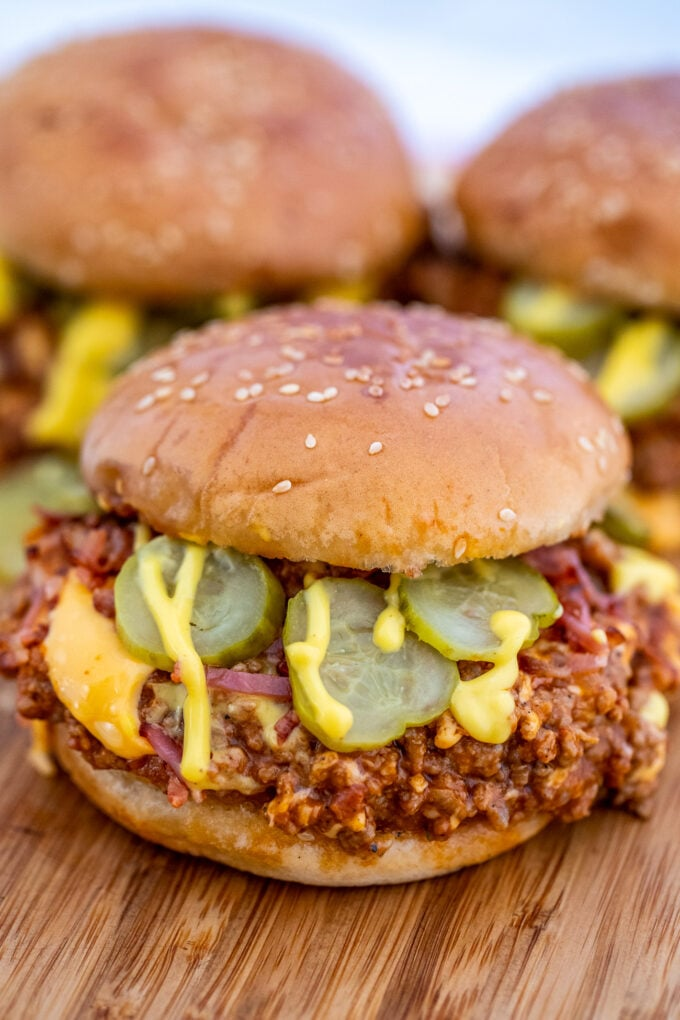hamburger_buns: (61, 300, 642, 550)
